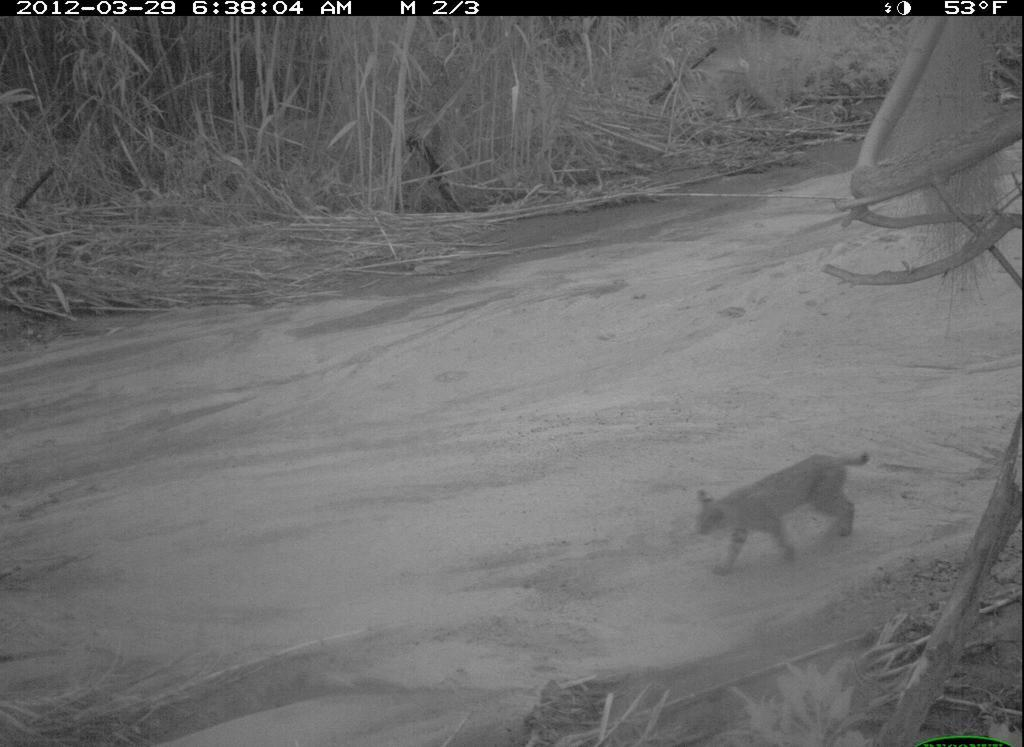bobcat: (687, 441, 877, 583)
